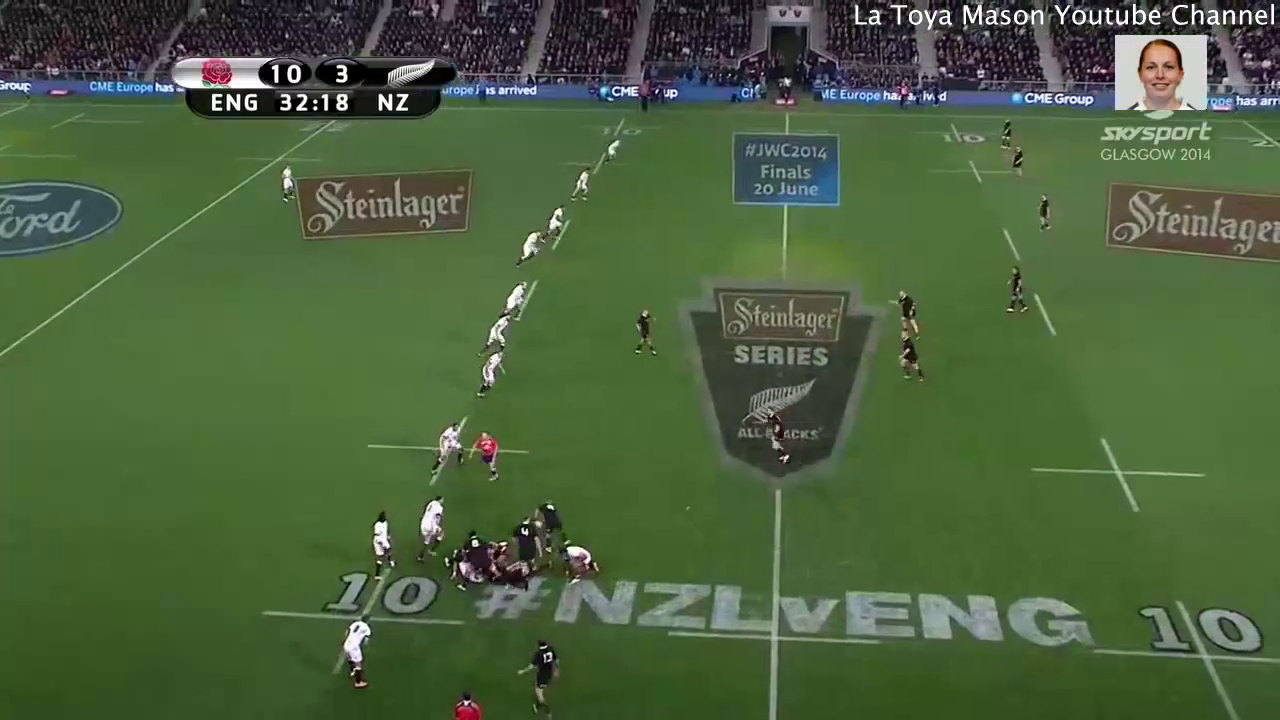10_metre: (254, 552, 475, 685), (1023, 434, 1216, 518), (354, 413, 540, 497), (923, 157, 1023, 187), (572, 117, 672, 144), (907, 119, 1004, 146), (555, 151, 640, 181)
player: (332, 608, 380, 696), (513, 638, 564, 720), (408, 489, 453, 571), (454, 526, 502, 594), (555, 538, 616, 591), (508, 514, 544, 599), (369, 505, 405, 585), (461, 428, 510, 486), (882, 285, 925, 348), (757, 396, 794, 469), (429, 420, 470, 484), (467, 348, 511, 406), (474, 311, 517, 363), (895, 325, 928, 391), (632, 306, 665, 364), (535, 495, 569, 549), (497, 272, 530, 325), (998, 265, 1031, 318), (273, 158, 301, 211), (509, 223, 542, 267), (444, 687, 488, 720), (538, 204, 570, 248), (566, 164, 593, 207), (1034, 190, 1056, 233), (1008, 140, 1028, 184), (994, 112, 1014, 155), (602, 134, 619, 169)
